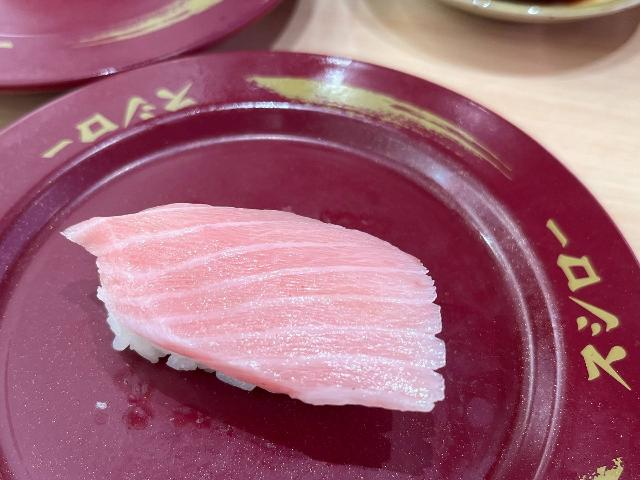janred: (9, 91, 632, 480), (0, 6, 253, 52)
